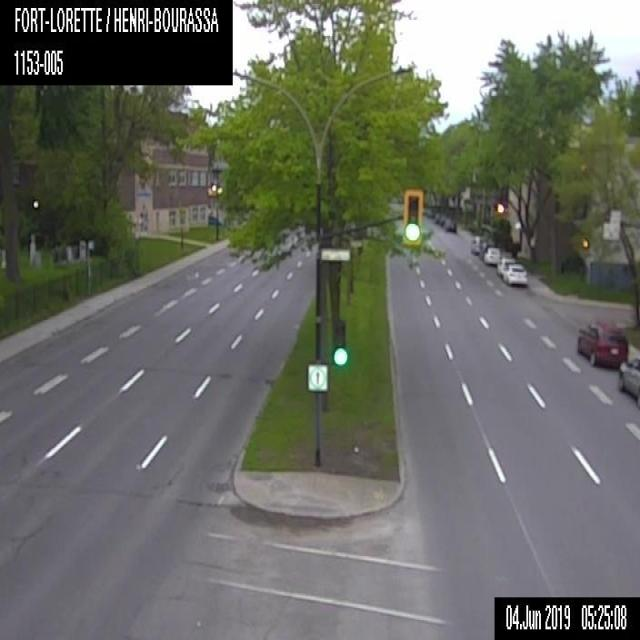vehicle: (577, 318, 628, 368), (618, 357, 639, 407), (503, 262, 528, 286), (496, 256, 516, 276), (478, 238, 494, 259), (483, 245, 501, 262), (469, 234, 484, 253), (444, 220, 456, 232), (439, 214, 449, 224), (433, 211, 439, 223)
